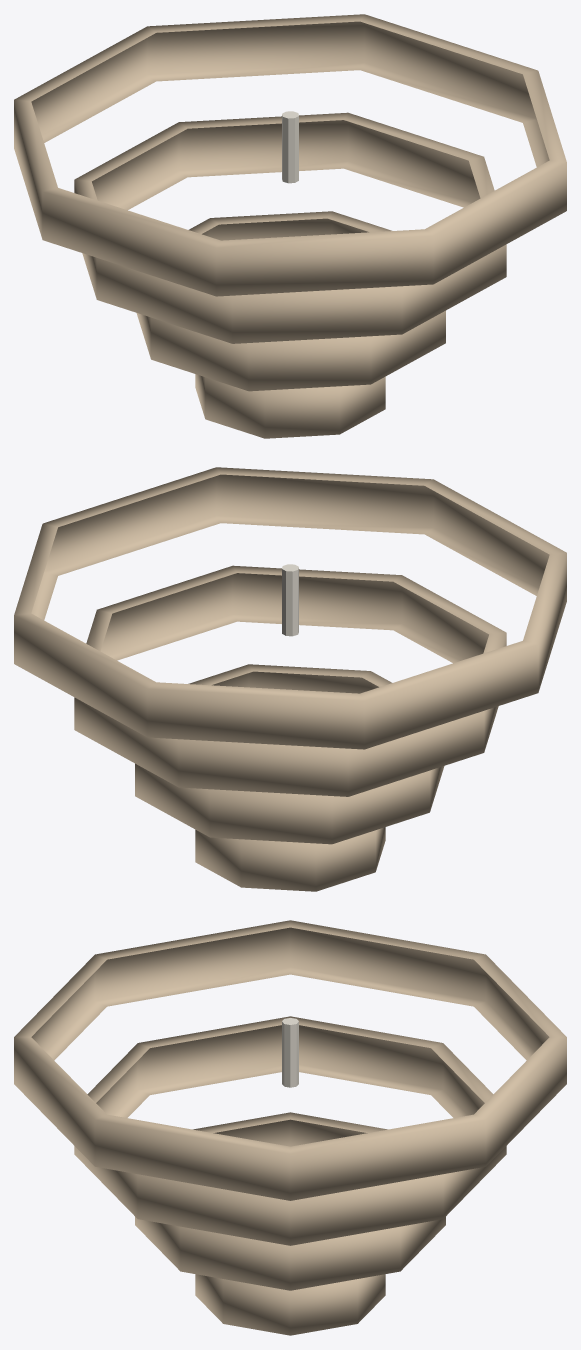
Rendered from sinc-p-baori.glb.
3 views of the same model, one above another, from view 1: azimuth 30°, elevation 25°; view 2: azimuth 150°, elevation 25°; view 3: azimuth 270°, elevation 25° (orthographic). The views are drawn at different scales.
Parts seen in each view (by area): view 1: level.tenantIsolation, level.auditChainAtomicity, level.statutoryTrackPriority, level.noAutomatedOutcomes, Pillar; view 2: level.tenantIsolation, level.auditChainAtomicity, level.statutoryTrackPriority, level.noAutomatedOutcomes, Pillar; view 3: level.tenantIsolation, level.auditChainAtomicity, level.statutoryTrackPriority, level.noAutomatedOutcomes, Pillar.
Part boxes in pixels (x1=…): level.tenantIsolation: x1=14, y1=14, x2=566, y2=296; level.auditChainAtomicity: x1=74, y1=112, x2=506, y2=343; level.statutoryTrackPriority: x1=136, y1=211, x2=445, y2=391; level.noAutomatedOutcomes: x1=195, y1=374, x2=385, y2=438; Pillar: x1=282, y1=111, x2=298, y2=183; level.tenantIsolation: x1=14, y1=467, x2=566, y2=749; level.auditChainAtomicity: x1=74, y1=565, x2=506, y2=796; level.statutoryTrackPriority: x1=135, y1=664, x2=444, y2=844; level.noAutomatedOutcomes: x1=195, y1=827, x2=385, y2=891; Pillar: x1=282, y1=564, x2=298, y2=636; level.tenantIsolation: x1=14, y1=920, x2=566, y2=1200; level.auditChainAtomicity: x1=74, y1=1016, x2=506, y2=1245; level.statutoryTrackPriority: x1=135, y1=1112, x2=445, y2=1290; level.noAutomatedOutcomes: x1=195, y1=1274, x2=385, y2=1335; Pillar: x1=282, y1=1018, x2=298, y2=1087.
Size of the model in its own units: 3.2 by 1.75 by 3.2.
